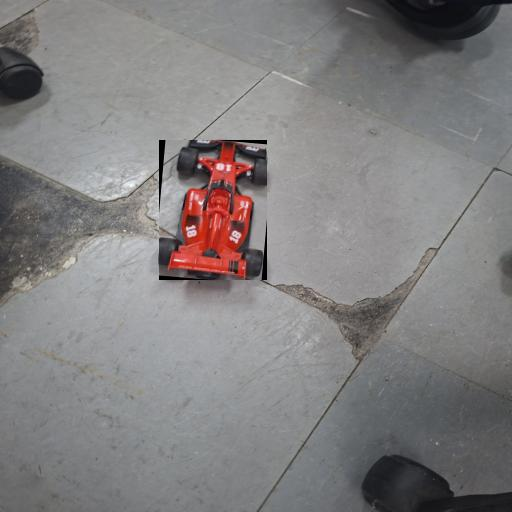carro: (159, 141, 267, 279)
